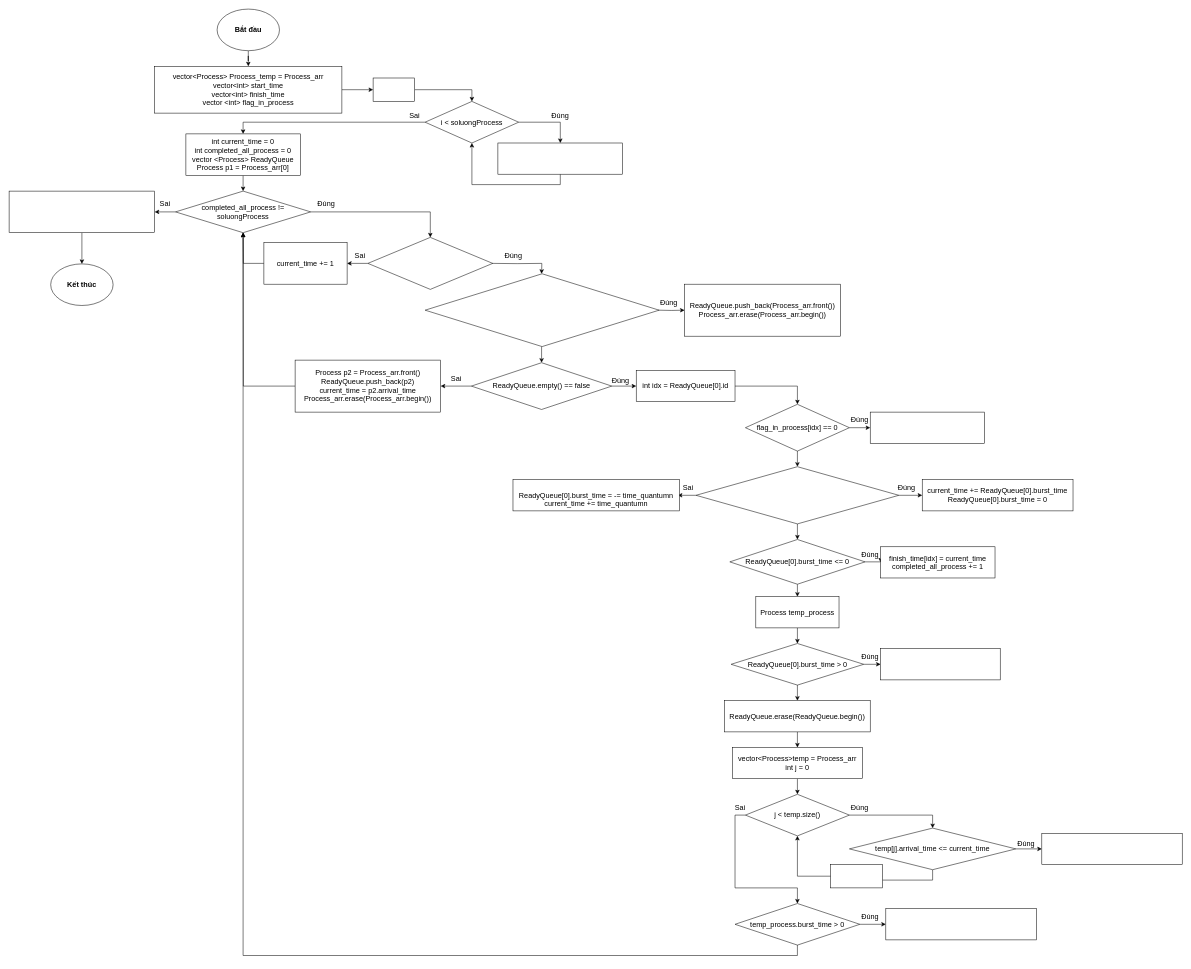
Image size: 1191x969. Some labels were removed from this diagram. The box of each missing label's shape, as (x1, y1, x2, y2) in pixels:
current_time >= p1.arrival_time: (367, 237, 493, 289)
int i = 0: (373, 77, 415, 101)
j += 1: (830, 864, 883, 888)
Process_arr.empty() == false && current_time >= Process_arr[0].arrival_time: (425, 273, 659, 347)
ReadyQueue.push_back(temp[j]) Process_arr.erase(Process_arr.begin()): (1041, 833, 1182, 864)
ReadyQueue.push_back(temp_process): (885, 908, 1037, 940)
ReadyQueue[0].burst_time - time_quantumn < 0: (696, 466, 899, 524)
start_time.push_back(0) finish_time.push_back(0) flag_int_process.push_back(0): (497, 142, 623, 174)
start_time[idx] = current_time flag_in_process[idx] = 1: (870, 412, 985, 443)
temp_process = ReadyQueue[0]: (880, 648, 1000, 680)
Xuat_Process(Process_arr, soluongProcess, start_time, finish_time): (9, 191, 155, 233)
